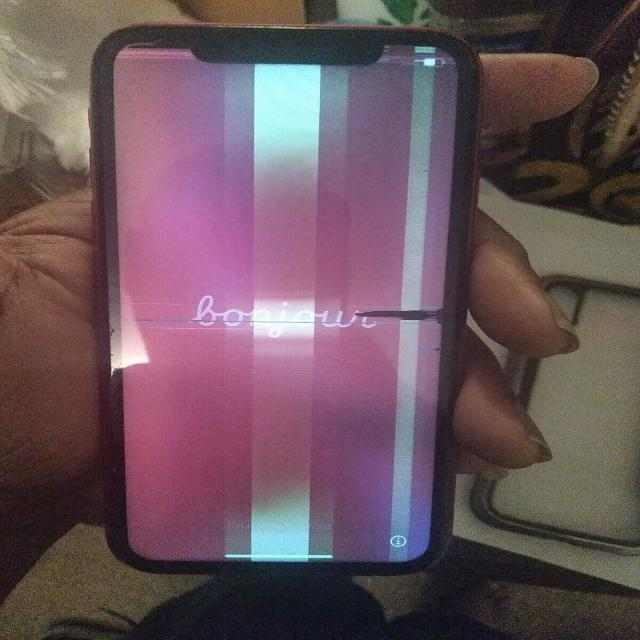dead pixel: (332, 295, 459, 327)
